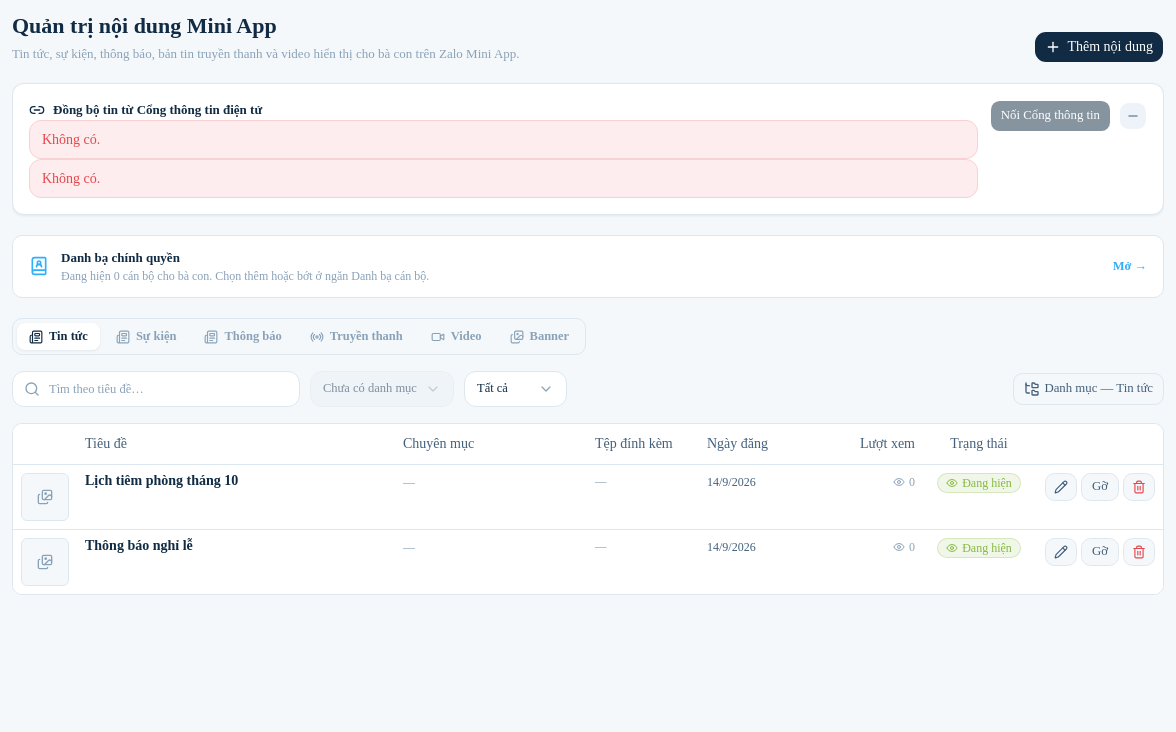
Test case: after the server answered › 204: the dialog closes, the same page is read again, the row is gone, the success TOAST shows
The image size is (1176, 732).
Click the button named "Xoá: Lịch tiêm phòng tháng 10".
click(1139, 486)  # box x1=1123 y1=472 x2=1155 y2=500
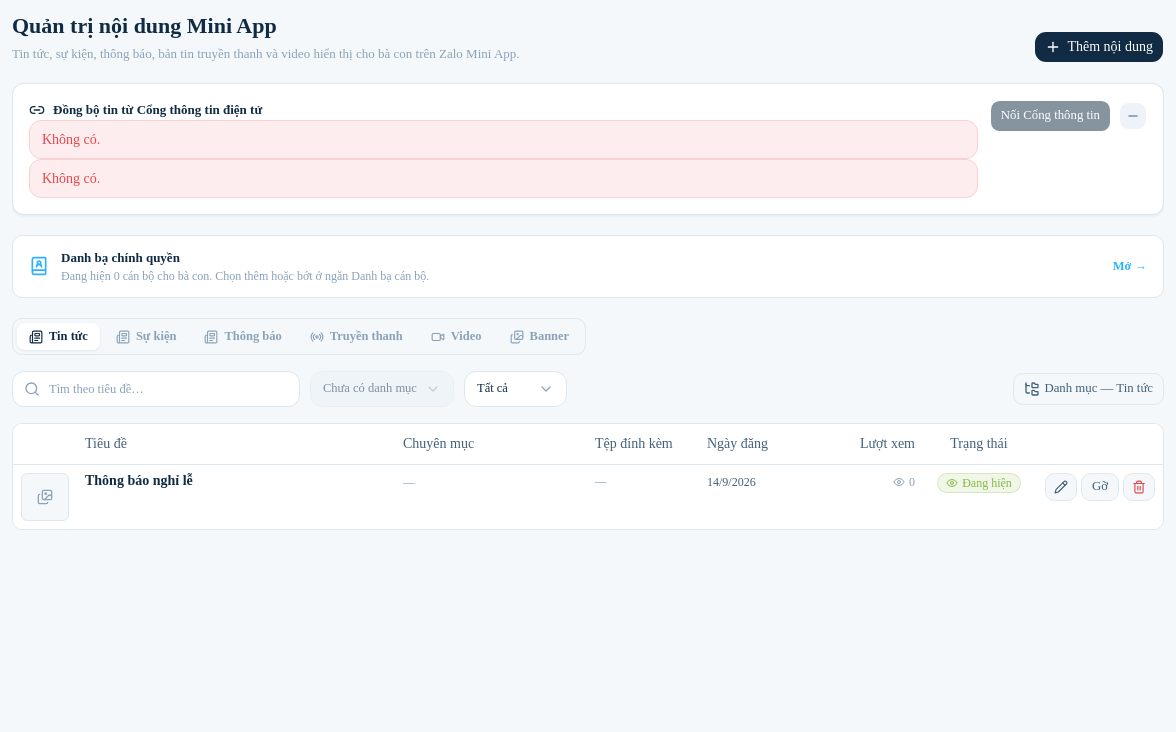
Expected: the text "Thông báo nghỉ lễ" is shown, x1=85 y1=472 x2=387 y2=488
Expected: the text "Lịch tiêm phòng tháng 10" is gone
